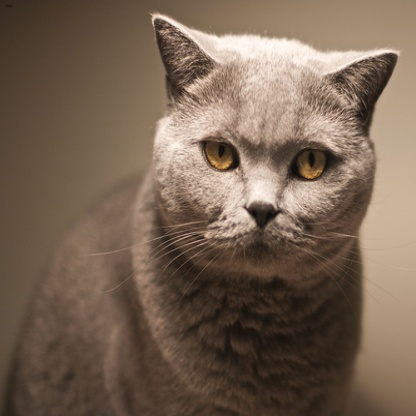british_shorthair: (6, 14, 394, 402)
